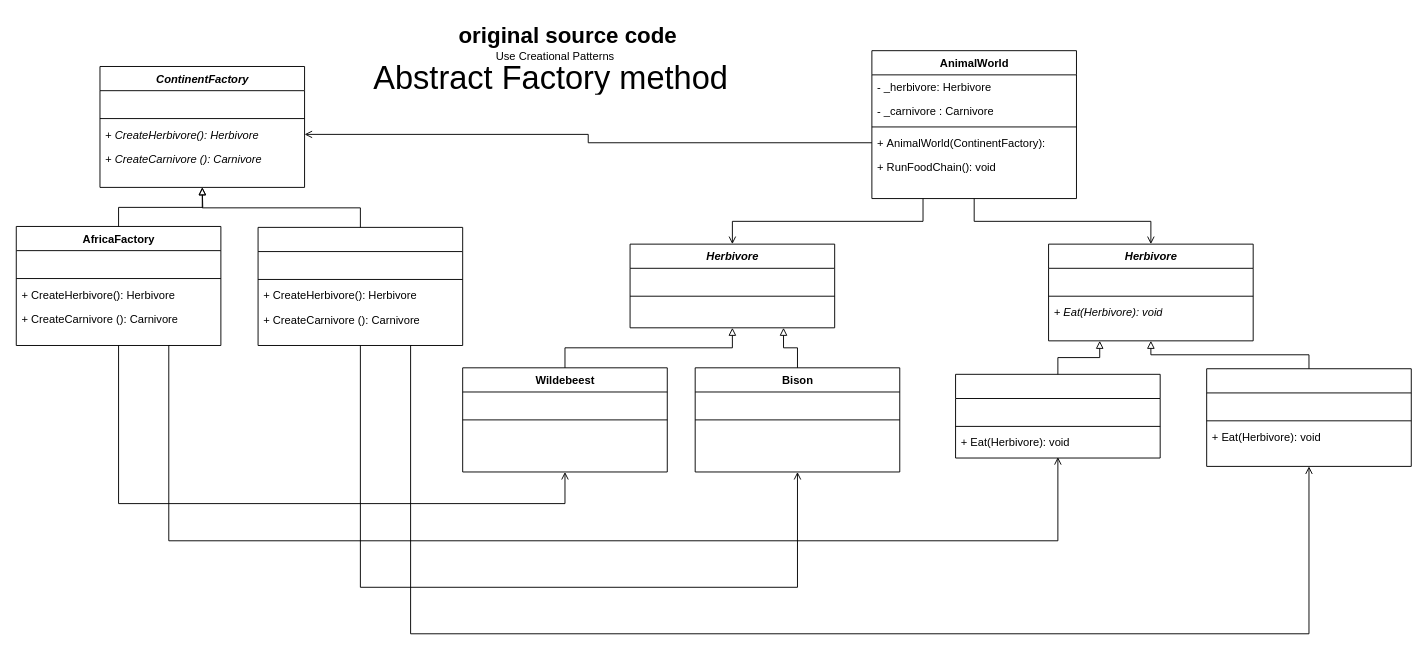
The diagram is 1428 pixels wide and 658 high, and some of its shapes have lost their labels. The box of each missing label's shape, as (x1, y1, x2, y2) in pixels:
AmericaFactory: (257, 226, 463, 345)
Lion: (955, 373, 1160, 458)
Wolf: (1206, 368, 1411, 466)
